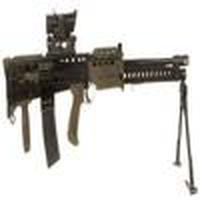gun: (2, 12, 196, 131)
